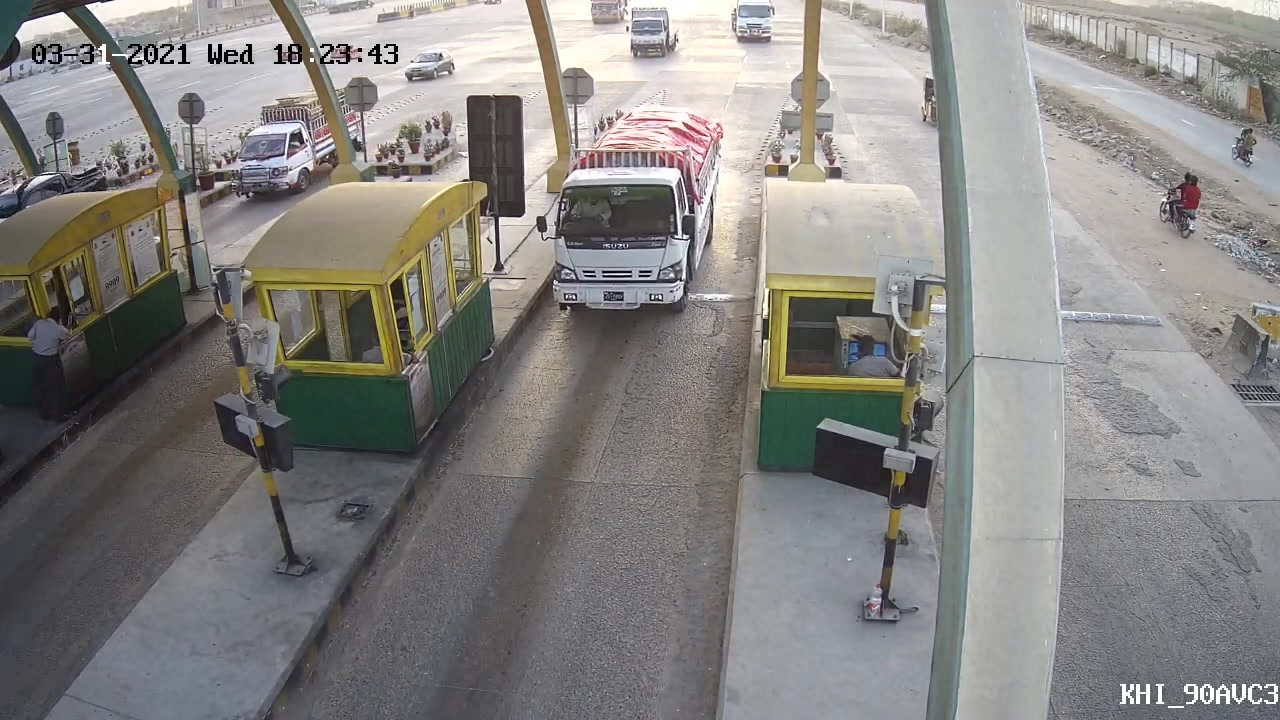F3: (538, 118, 720, 321)
